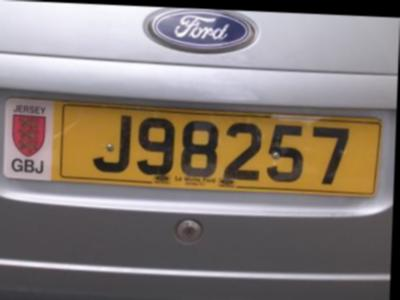License_Plate: (4, 97, 380, 197)
